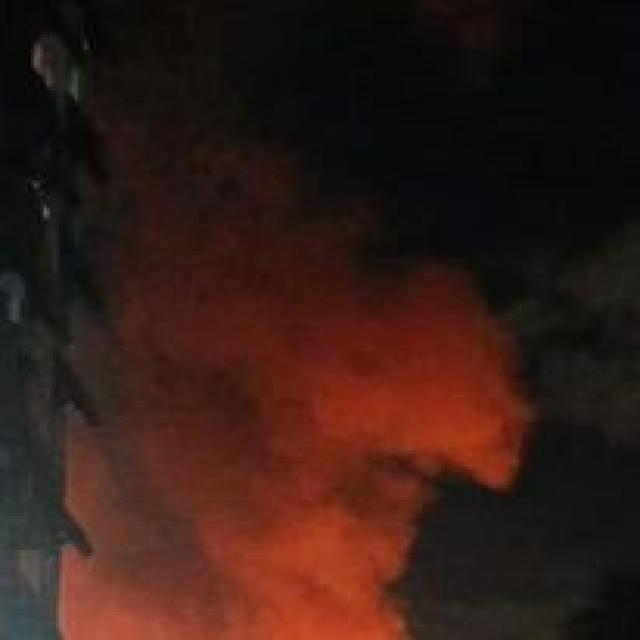Smoke: (124, 98, 486, 524), (94, 516, 400, 638)
